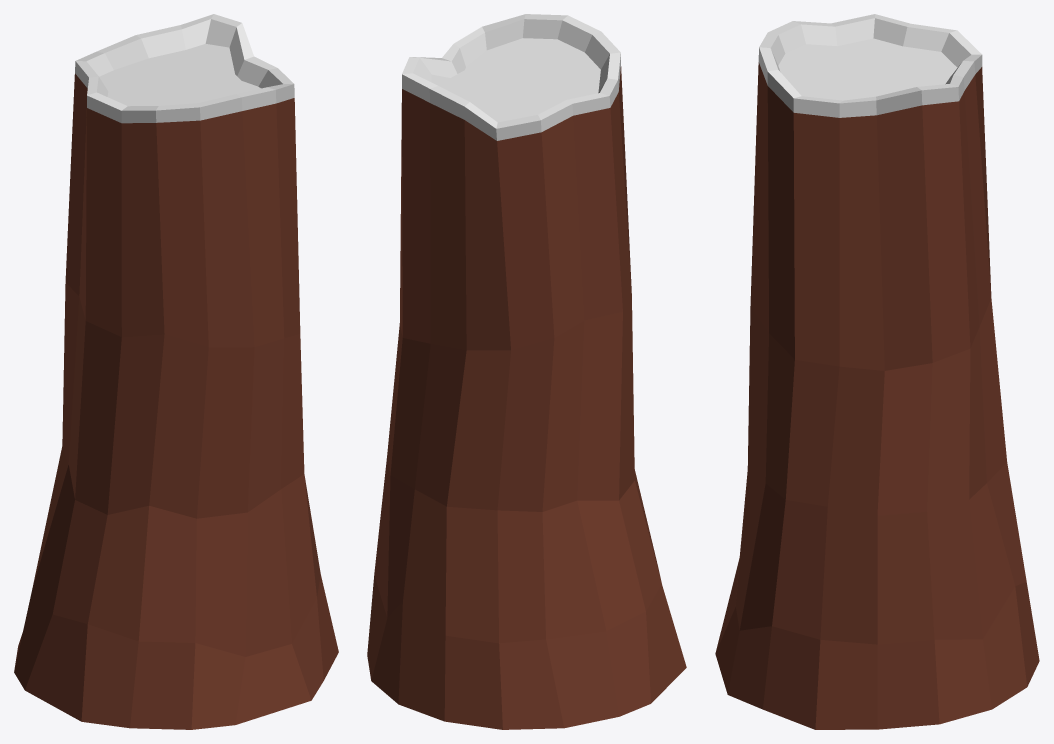
Rendered from pine_trunk_type_7_extra_LOD0.fbx.
3 renders of one model, left to right at view 1: azimuth 30°, elevation 25°; view 2: azimuth 150°, elevation 25°; view 3: azimuth 270°, elevation 25°, orthographic. The views are drawn at different scales.
Visible parts, largest first — view 1: pt_type_7.001; view 2: pt_type_7.001; view 3: pt_type_7.001.
Part boxes in pixels (<box>): pt_type_7.001: <box>14,14,338,729</box>; pt_type_7.001: <box>367,14,686,729</box>; pt_type_7.001: <box>715,14,1039,729</box>.
Bounding box in the file's own units: 201 × 422 × 200.
